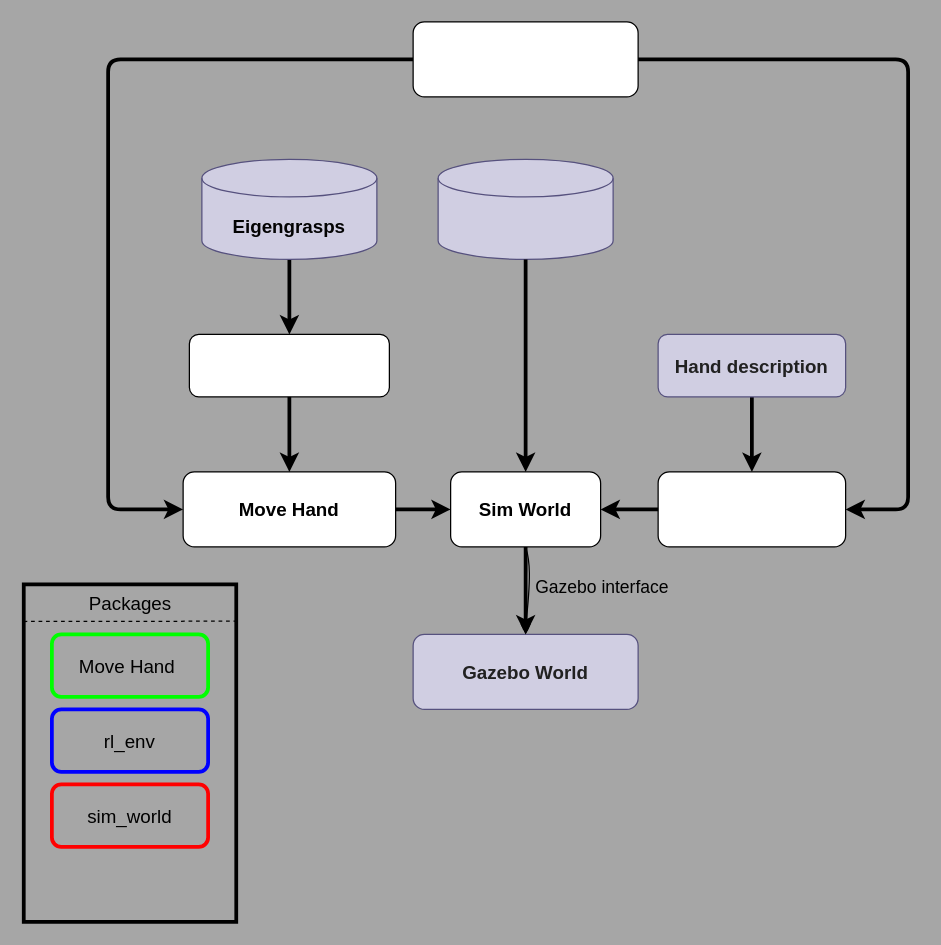
Some shapes in this 941 by 945 pixel diagram are drawn without their labels. The centre of each missing label's shape, as x and y in pixels:
Graspit Interface: pixel 288 365
Main Controller: pixel 525 59
Objects: pixel 525 208
RL Environment: pixel 751 509
